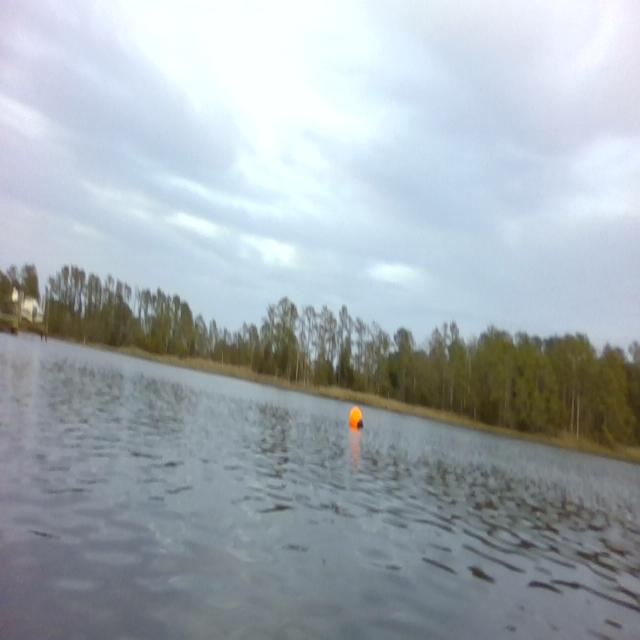Buoy: (348, 403, 365, 432)
